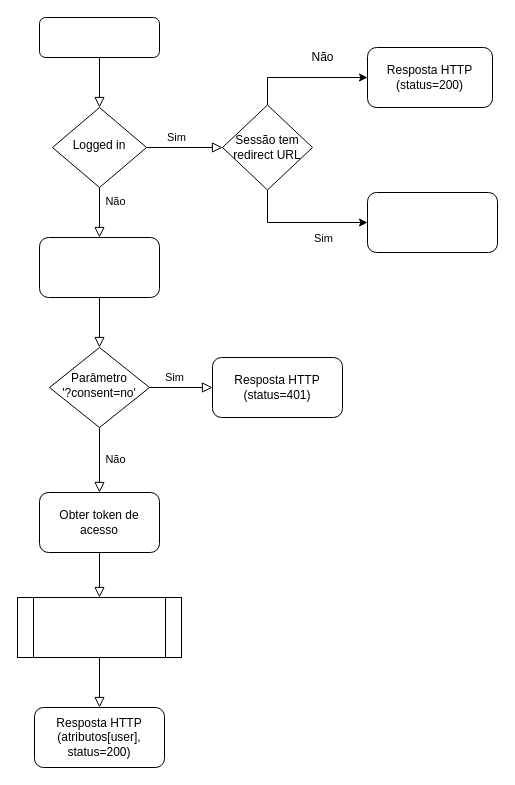
Some shapes in this 515 by 785 pixel diagram are drawn without their labels. The box of each missing label's shape, as (x1, y1, x2, y2) in pixels:
cache_atributos(token): (16, 596, 182, 658)
GET /login: (38, 16, 160, 58)
IdP e permissão de controlo: (38, 236, 160, 298)
Redirect HTTP(URL): (366, 192, 498, 252)
